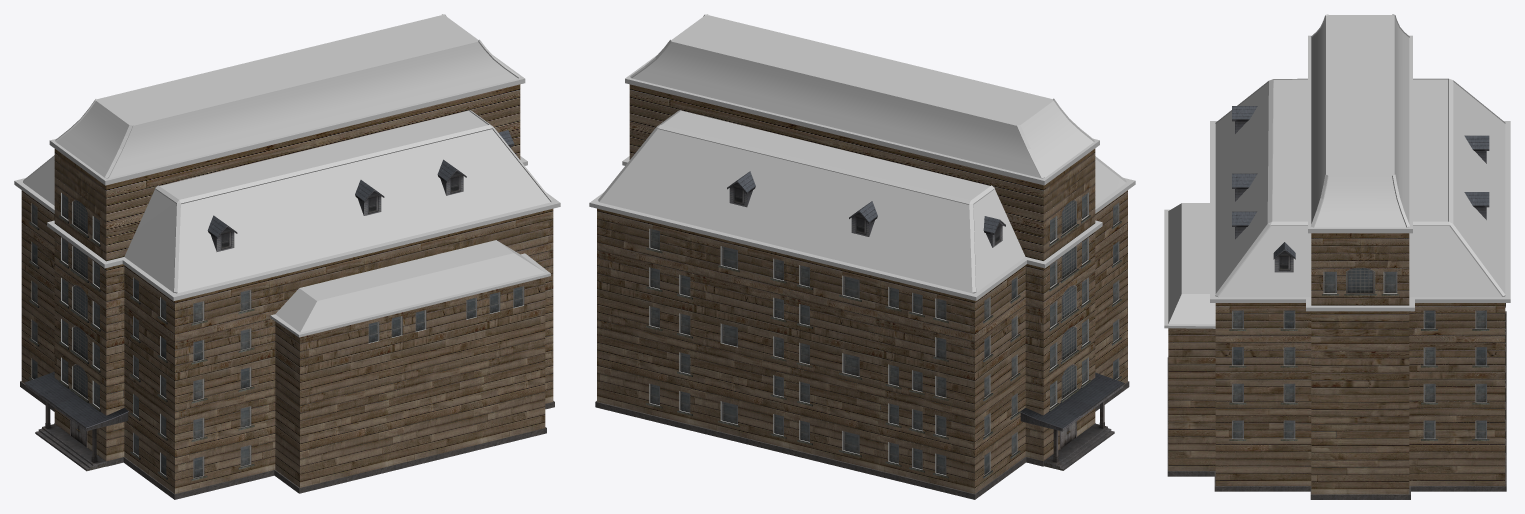
Rendered from Mansion.obj.
3 renders of one model, left to right at view 1: azimuth 30°, elevation 25°; view 2: azimuth 150°, elevation 25°; view 3: azimuth 270°, elevation 25°, orthographic. The views are drawn at different scales.
Parts seen in each view (by area): view 1: Object02, default, Object17, windows08; view 2: Object02, default, windows08, Object17; view 3: default, Object02, Object17, windows08.
Part boxes in pixels (box(x1,y1,x2,y2)): Object02: box(21, 84, 553, 493); default: box(14, 14, 560, 337); Object17: box(20, 130, 554, 499); windows08: box(32, 193, 523, 477); Object02: box(597, 84, 1127, 493); default: box(589, 14, 1135, 300); windows08: box(650, 193, 1118, 474); Object17: box(595, 171, 1129, 499); default: box(1164, 14, 1510, 328); Object02: box(1168, 233, 1505, 494); Object17: box(1167, 106, 1506, 499); windows08: box(1232, 267, 1486, 438).
Size of the model in its own units: 426 by 300 by 305.
